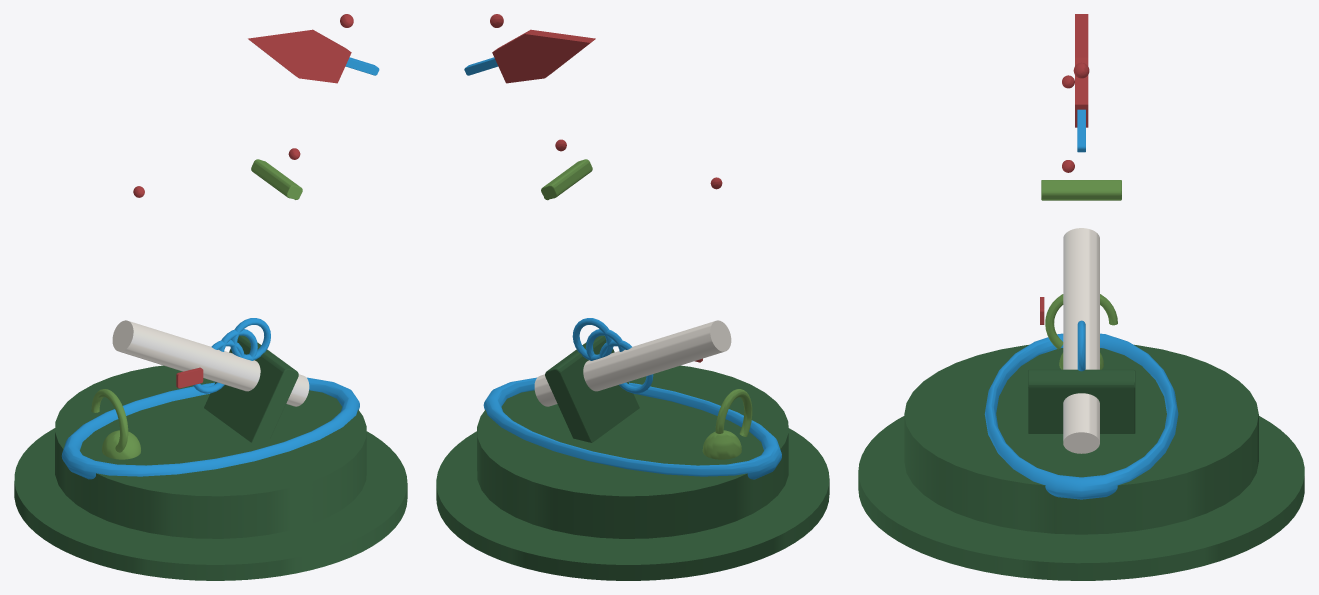
The model's file is 0567_伟大的发明图鉴_硝酸甘油炸药.glb.
3 renders of one model, left to right at view 1: azimuth 30°, elevation 25°; view 2: azimuth 150°, elevation 25°; view 3: azimuth 270°, elevation 25°, orthographic. The views are drawn at different scales.
Visible parts, largest first — view 1: card_0567; view 2: card_0567; view 3: card_0567.
Boxes of the visible parts, x1,y1,x2,y2 form: card_0567: (14, 14, 407, 580); card_0567: (436, 14, 829, 580); card_0567: (858, 14, 1304, 580).
Size of the model in its own units: 0.7753 by 1 by 0.7965.
